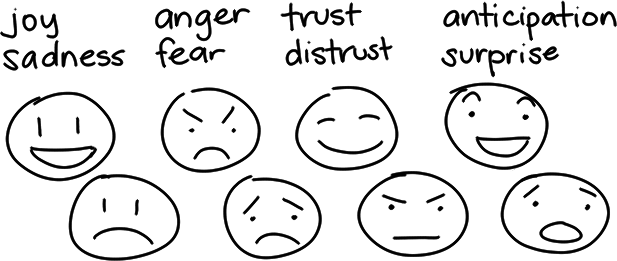triste: (164, 78, 265, 177), (89, 190, 158, 253), (179, 103, 241, 162), (237, 196, 307, 248), (380, 194, 450, 246)
